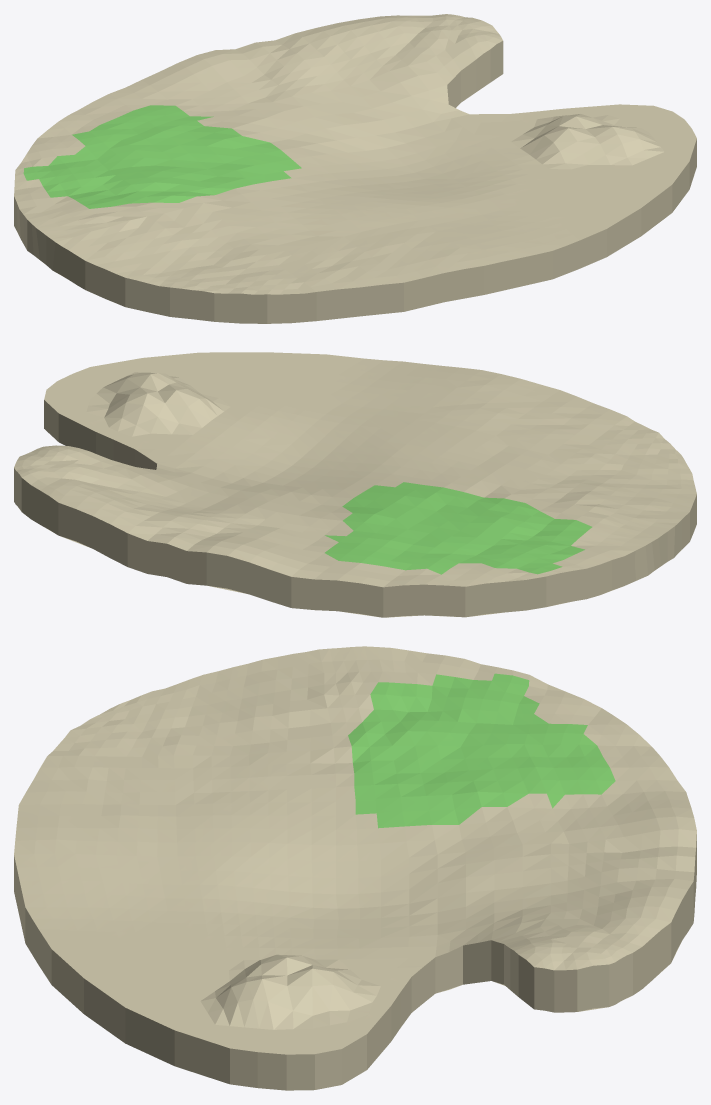
The model's file is hillycoloredpalette.fbx.
3 views of the same model, one above another, from view 1: azimuth 30°, elevation 25°; view 2: azimuth 150°, elevation 25°; view 3: azimuth 270°, elevation 25° (orthographic). The views are drawn at different scales.
Parts seen in each view (by area): view 1: Plane; view 2: Plane; view 3: Plane.
Part boxes in pixels (x1,y1,x2,y2): Plane: (14,14,696,323); Plane: (14,352,696,617); Plane: (14,646,696,1090).
Size of the model in its own units: 1587 by 151 by 1197.
